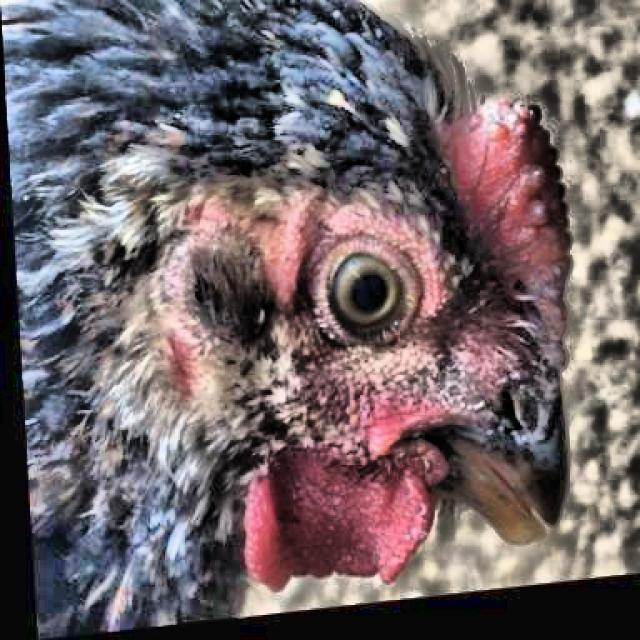Healthy: (295, 230, 435, 368)
